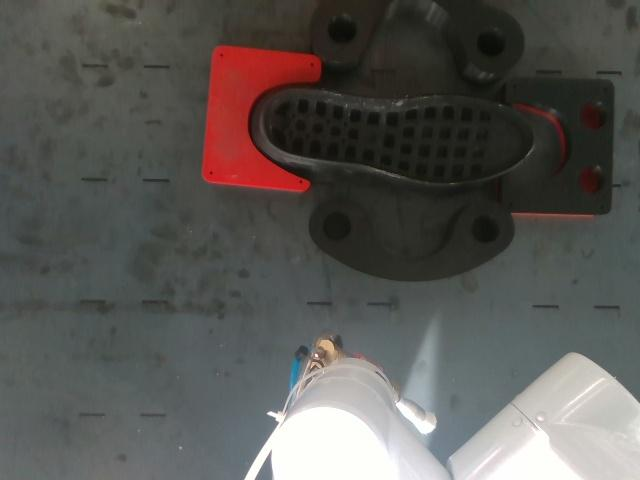shoes: (261, 88, 533, 183)
